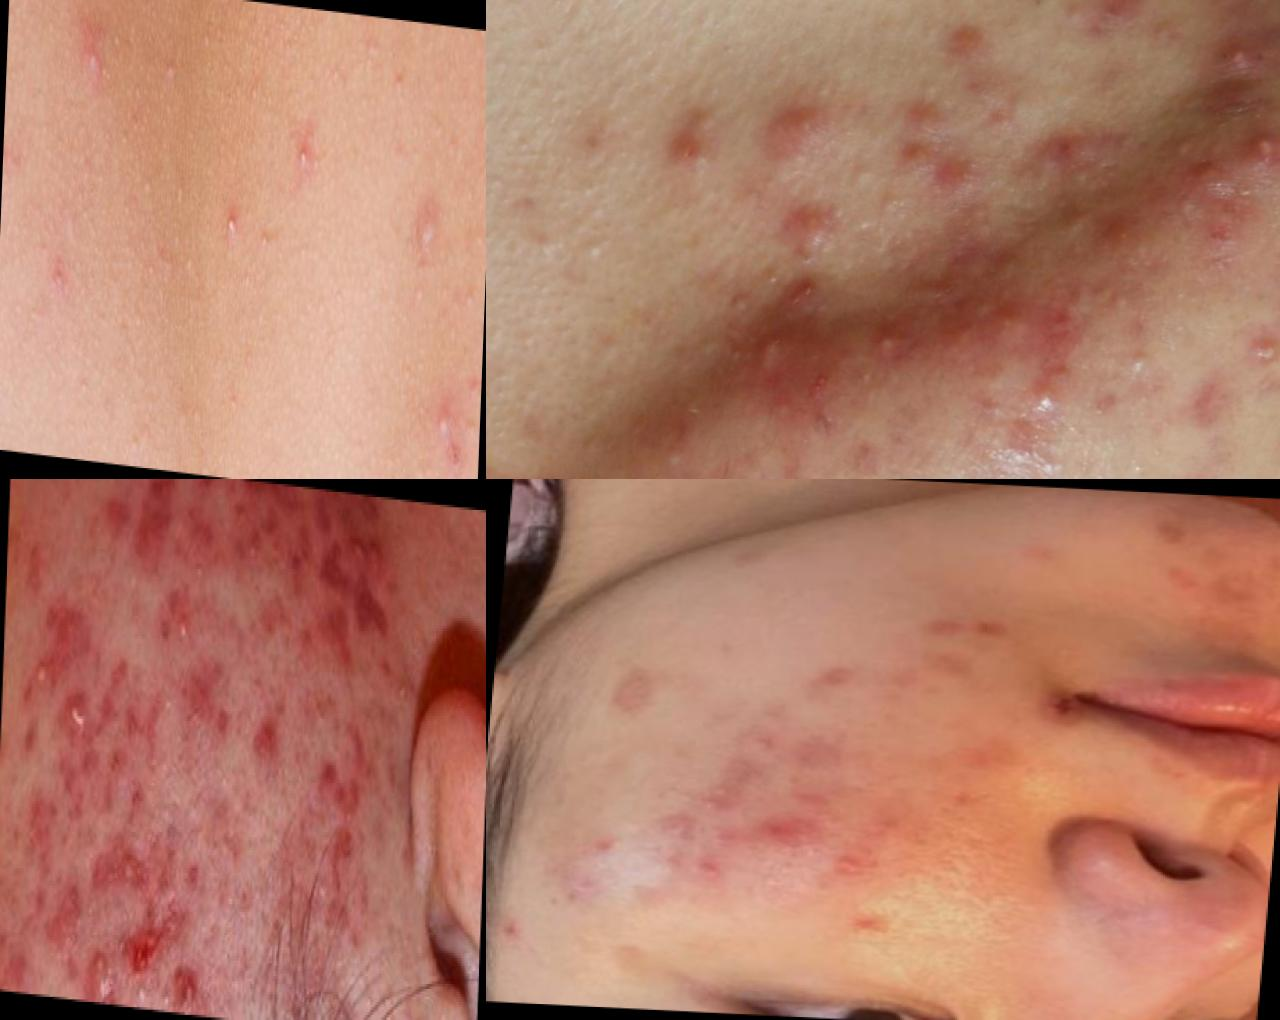acne_scars: (1148, 564, 1271, 621), (771, 651, 860, 703), (901, 608, 1018, 645), (319, 813, 362, 898), (593, 663, 666, 712), (1133, 516, 1210, 561)
blackhead: (305, 677, 336, 754)
folliculitis: (388, 651, 414, 711), (28, 632, 53, 694)
milium: (186, 537, 213, 588)
papular: (737, 804, 840, 867), (916, 314, 980, 381), (669, 851, 756, 898), (985, 294, 1042, 355), (344, 516, 387, 588), (572, 831, 636, 873), (640, 795, 686, 838)
purulent: (842, 304, 911, 373), (1203, 22, 1262, 96), (1012, 363, 1079, 422), (1108, 333, 1167, 388), (1235, 321, 1280, 388), (1240, 116, 1280, 189), (164, 587, 199, 654), (1170, 452, 1224, 480)
sebo-crystan-conglo: (727, 276, 860, 456), (751, 73, 853, 181), (125, 900, 164, 985), (80, 920, 119, 998), (169, 953, 209, 1009), (61, 686, 95, 751)
whitehead: (661, 745, 744, 817), (35, 218, 87, 325), (207, 182, 255, 257), (406, 163, 447, 249), (423, 363, 454, 463), (71, 1, 104, 90), (813, 847, 872, 890), (286, 125, 318, 179)
